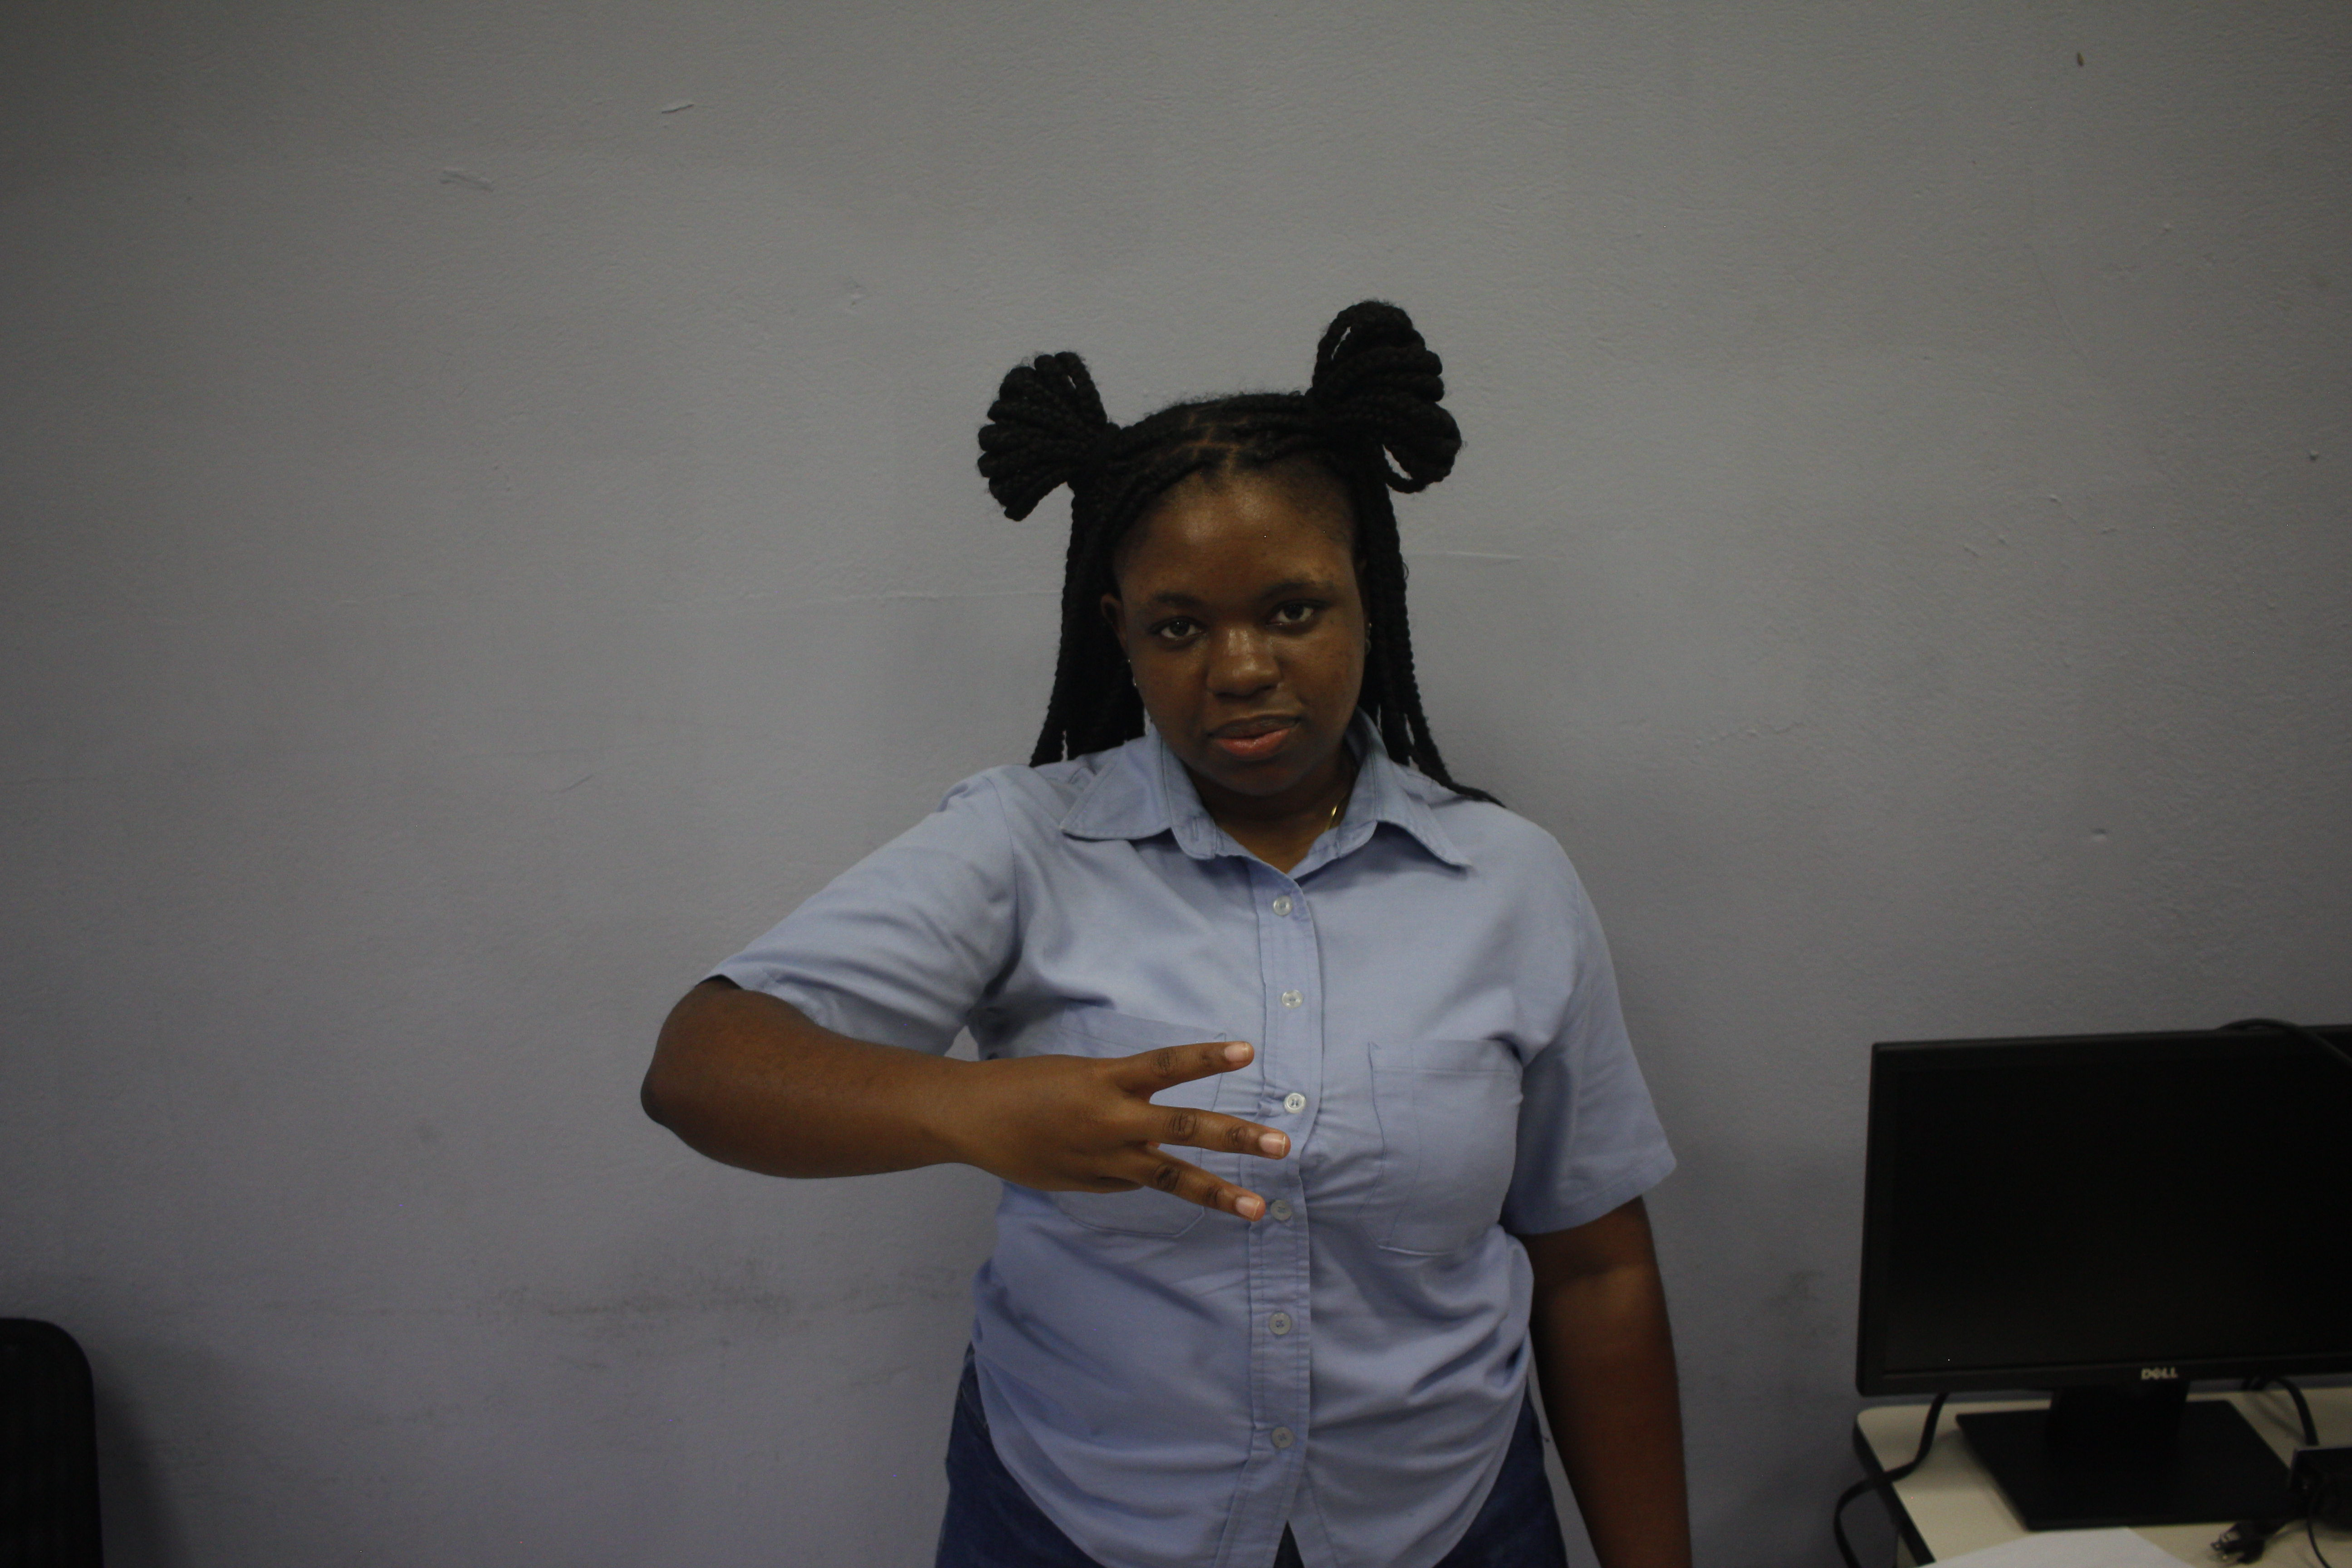you are welcome: (978, 1024, 1298, 1234)
